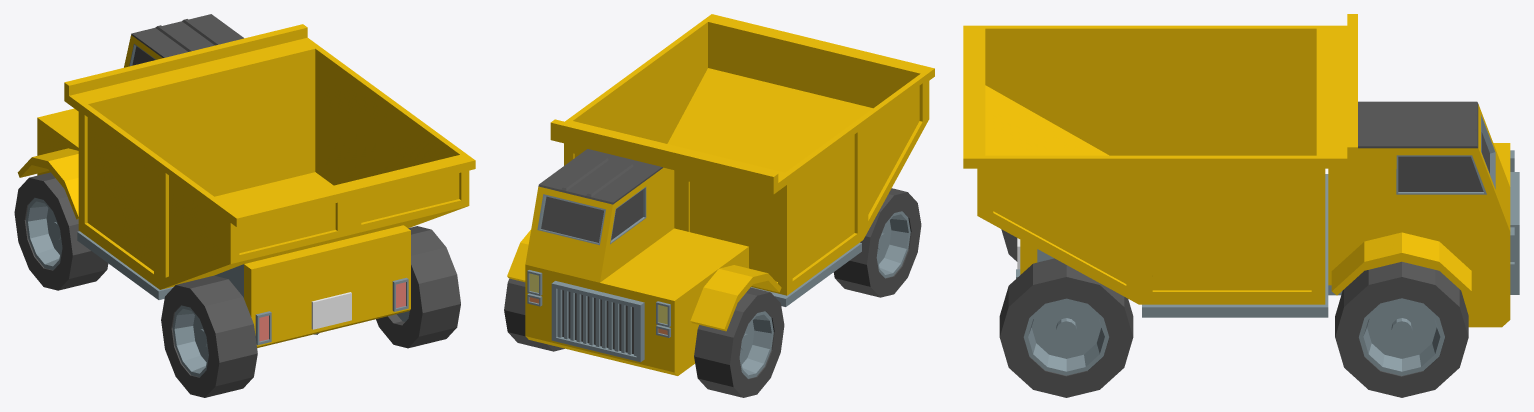
Rendered from dump_truck.glb.
3 renders of one model, left to right at view 1: azimuth 30°, elevation 25°; view 2: azimuth 150°, elevation 25°; view 3: azimuth 270°, elevation 25°, orthographic. The views are drawn at different scales.
Parts seen in each view (by area): view 1: Dumptruck_01_Cube_720ca6, Dumptruck_01_Cube_dbd90b, Dumptruck_01_Cube, Dumptruck_01_Cube_dbdec7, Dumptruck_01_Cube_046e40; view 2: Dumptruck_01_Cube_720ca6, Dumptruck_01_Cube_dbd90b, Dumptruck_01_Cube; view 3: Dumptruck_01_Cube_720ca6, Dumptruck_01_Cube_dbd90b, Dumptruck_01_Cube.
Boxes of the visible parts, <box> form: Dumptruck_01_Cube_720ca6: <box>17,24,475,347</box>; Dumptruck_01_Cube_dbd90b: <box>14,14,460,397</box>; Dumptruck_01_Cube: <box>26,44,409,377</box>; Dumptruck_01_Cube_dbdec7: <box>311,292,351,329</box>; Dumptruck_01_Cube_046e40: <box>259,282,405,341</box>; Dumptruck_01_Cube_720ca6: <box>507,14,934,375</box>; Dumptruck_01_Cube_dbd90b: <box>504,149,921,397</box>; Dumptruck_01_Cube: <box>527,186,910,378</box>; Dumptruck_01_Cube_720ca6: <box>963,14,1510,327</box>; Dumptruck_01_Cube_dbd90b: <box>999,101,1489,397</box>; Dumptruck_01_Cube: <box>1016,114,1519,375</box>.
Bounding box in the file's own units: 3.24 × 2.8 × 5.65.
